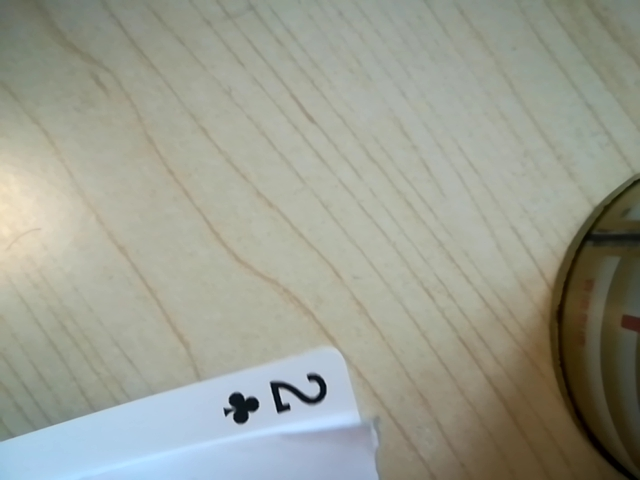mh 2: (211, 365, 348, 437)
